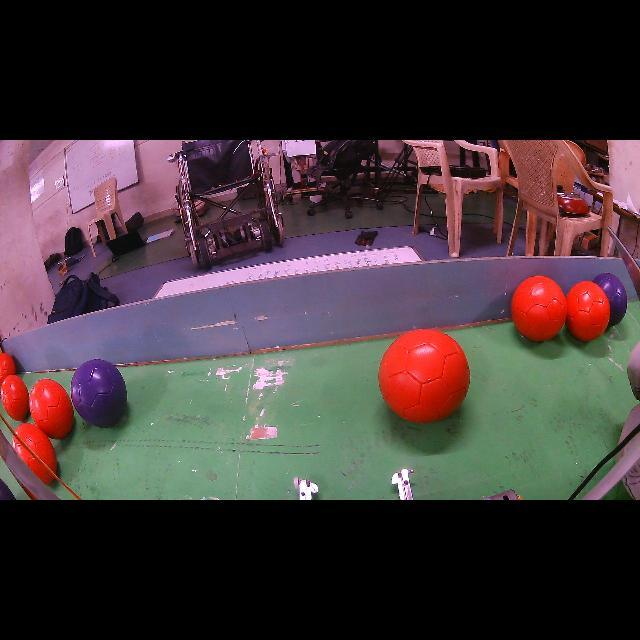P: (70, 359, 128, 428), (592, 272, 628, 327)
R: (379, 330, 470, 422), (511, 276, 568, 341), (12, 422, 58, 484), (565, 281, 610, 341), (30, 379, 74, 439), (1, 375, 30, 421), (0, 352, 16, 386)
